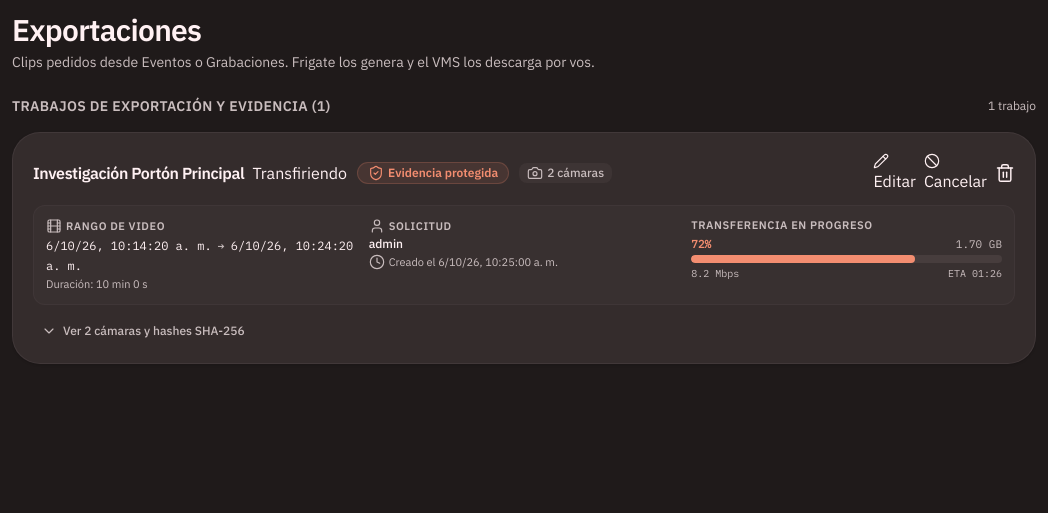
Test case: Exports › renders multi-camera export job with progress, speed, ETA, and expanded camera details
Expected: the text "Investigación Portón Principal" is shown, x1=33 y1=161 x2=244 y2=185
Expected: the text "Evidencia protegida" is shown, x1=388 y1=165 x2=498 y2=181
Expand cameras accordion
Click the button "Ver 2 cámaras y hashes SHA-256": coordinates (143, 331) x1=33 y1=319 x2=253 y2=343
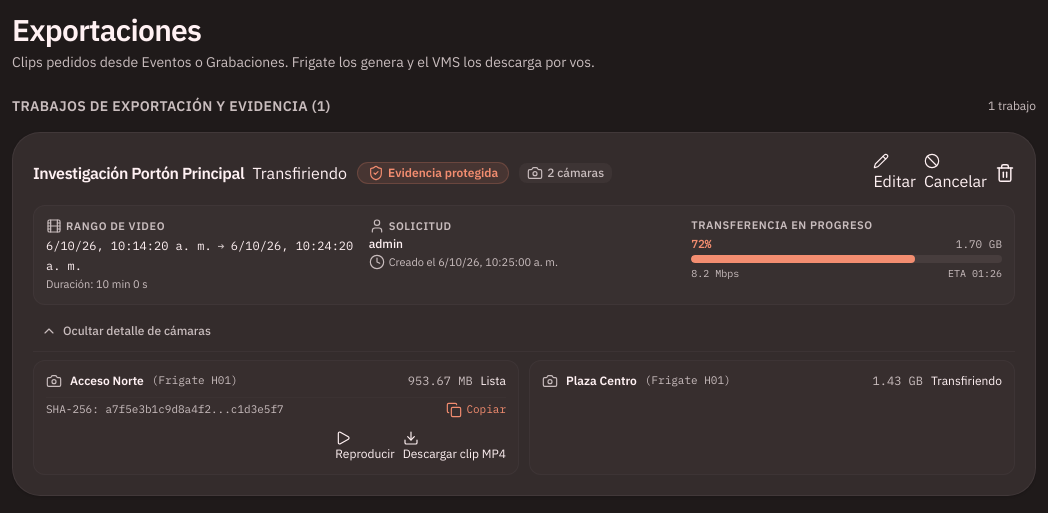
Result: the button "Ocultar detalle de cámaras" is shown at x1=33 y1=319 x2=219 y2=343
Result: the text "Acceso Norte" is shown at x1=70 y1=373 x2=144 y2=389
Result: the text "Plaza Centro" is shown at x1=566 y1=373 x2=637 y2=389
